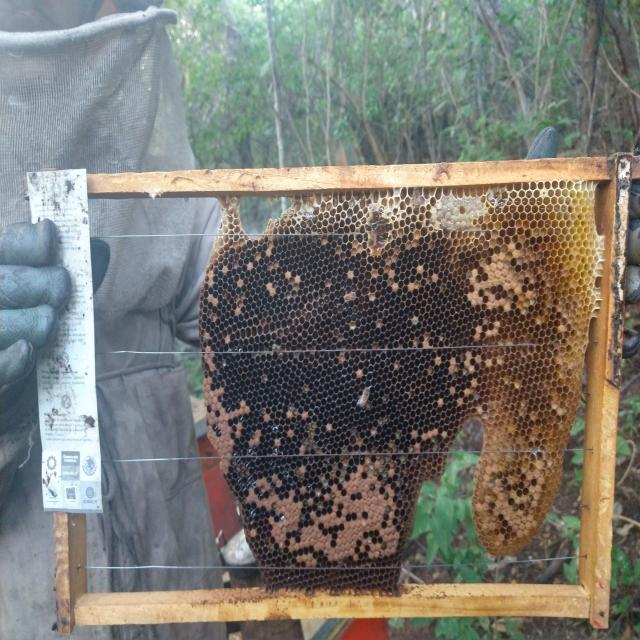cria: (247, 427, 448, 569), (202, 345, 250, 474), (475, 462, 545, 547), (466, 242, 532, 312)
marco: (93, 199, 581, 589)
